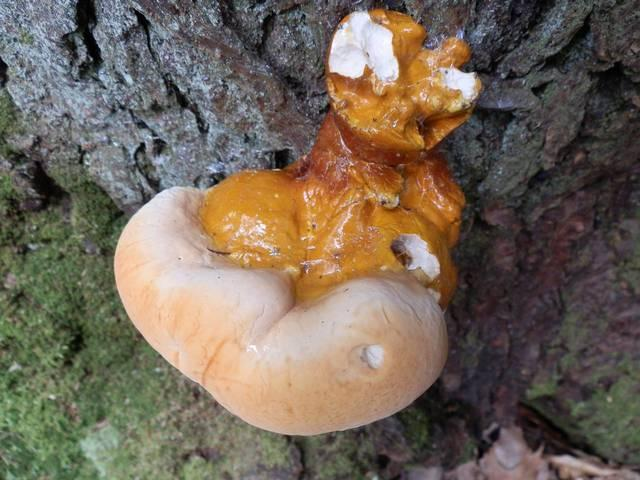Non-edible Mushroom: (112, 7, 483, 437)
